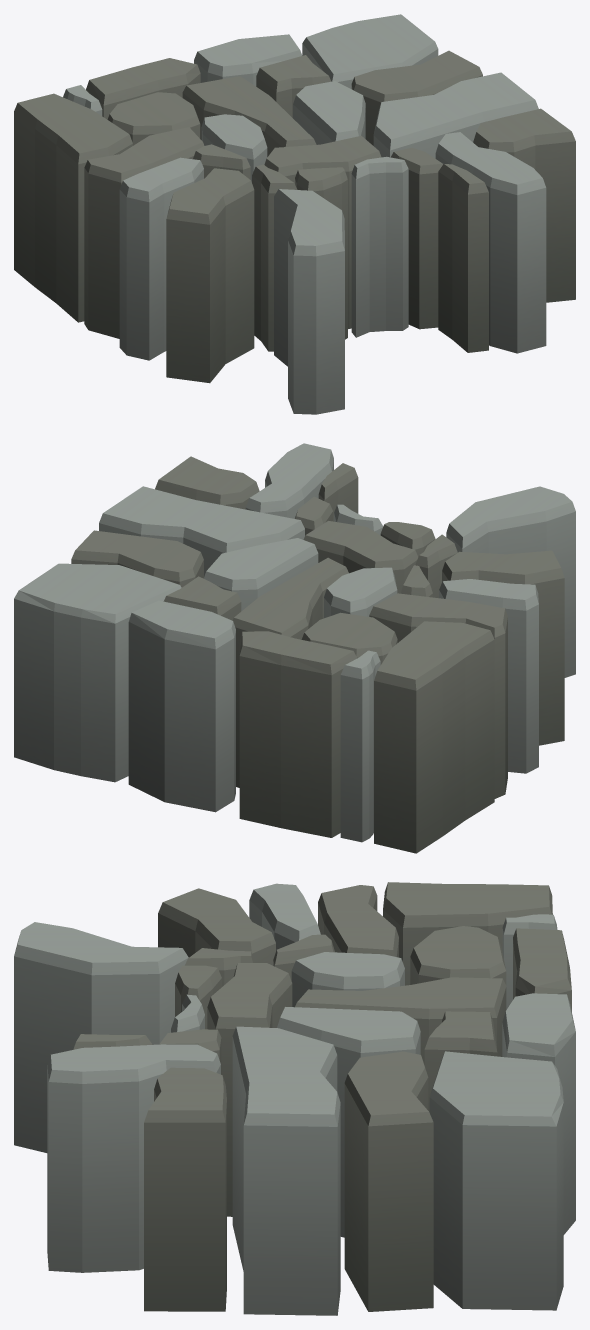
Rendered from ZLP_Road_B_7.FBX.
The picture shows the model from 3 angles, top to bottom: view 1: azimuth 30°, elevation 25°; view 2: azimuth 150°, elevation 25°; view 3: azimuth 270°, elevation 25°; orthographic projection. The views are drawn at different scales.
Visible parts, largest first — view 1: ZLP_Road_B_7; view 2: ZLP_Road_B_7; view 3: ZLP_Road_B_7.
Boxes of the visible parts, left/top/right/bottom form: ZLP_Road_B_7: left=14, top=14, right=575, bottom=414; ZLP_Road_B_7: left=14, top=443, right=575, bottom=853; ZLP_Road_B_7: left=14, top=882, right=575, bottom=1315.
Bounding box in the file's own units: 365 × 144 × 368.
